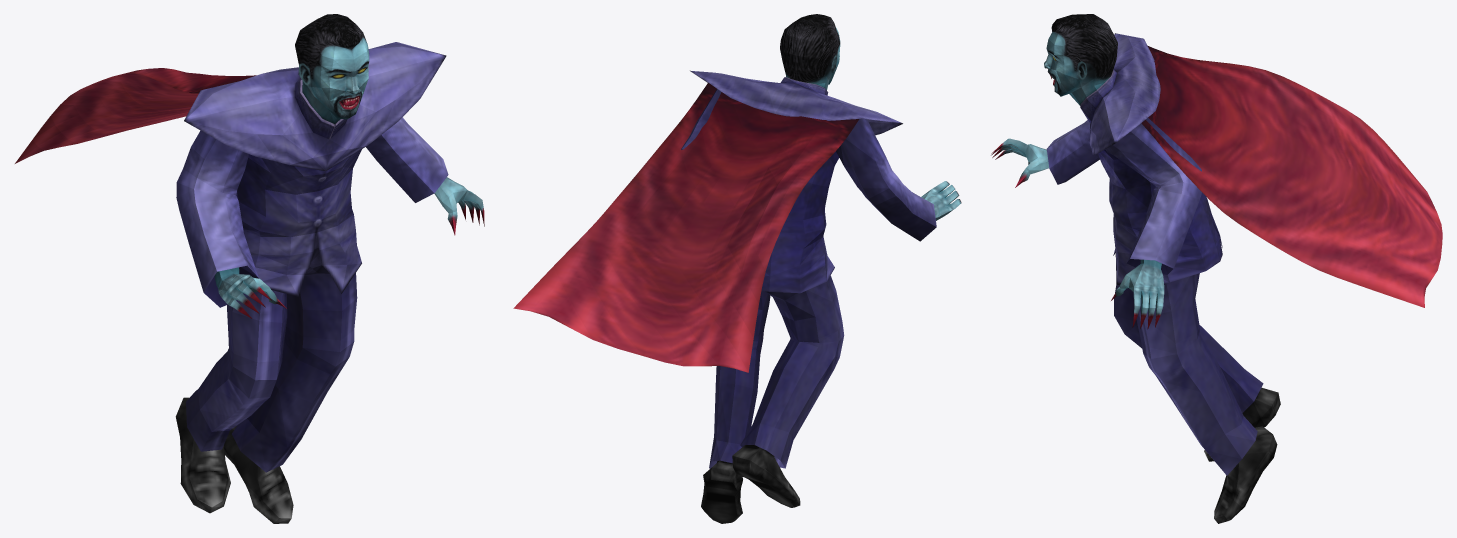
File: Vampire.fbx
3 views of the same model, side by side, from view 1: azimuth 30°, elevation 25°; view 2: azimuth 150°, elevation 25°; view 3: azimuth 270°, elevation 25° (orthographic). The views are drawn at different scales.
Visible parts, largest first — view 1: Body, Head; view 2: Body, Head; view 3: Body, Head.
Part boxes in pixels (box(x1,y1,x2,y2)): Body: box(15, 42, 448, 472); Head: box(175, 14, 484, 523); Body: box(513, 70, 936, 468); Head: box(701, 14, 961, 523); Body: box(1046, 33, 1442, 475); Head: box(991, 14, 1280, 523).
Bounding box in the file's own units: 869 × 1462 × 1215.
2 materials, 2 textured.
